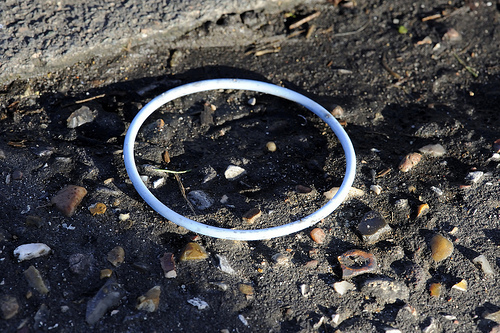litter: (119, 76, 358, 240)
